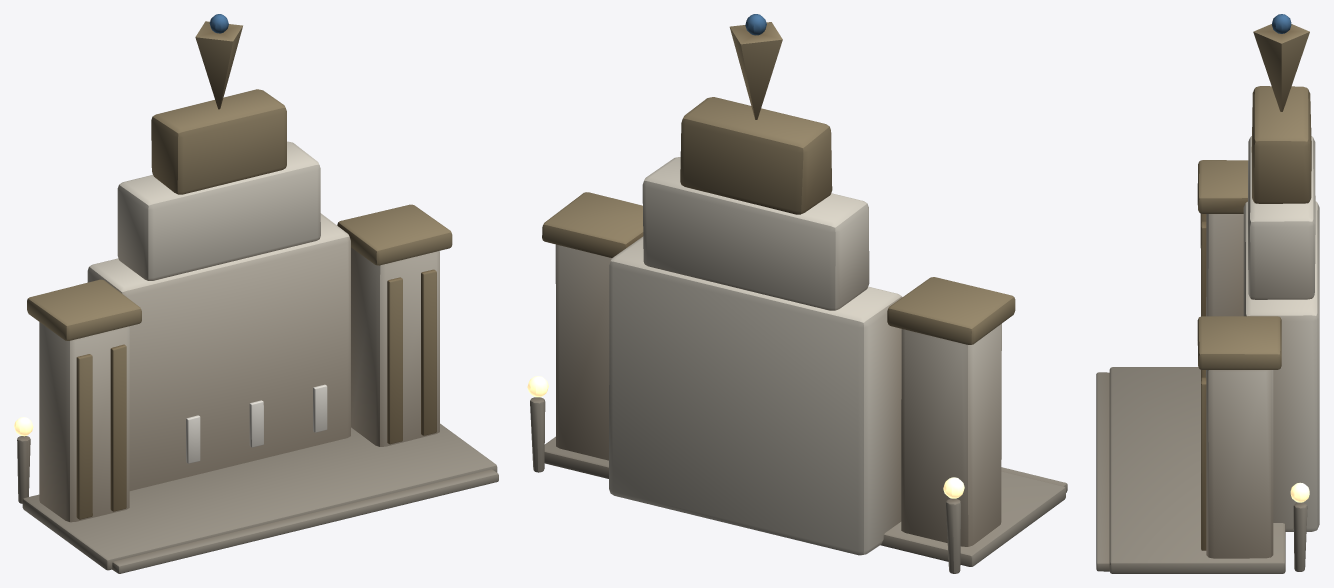
3 views of the same model, side by side, from view 1: azimuth 30°, elevation 25°; view 2: azimuth 150°, elevation 25°; view 3: azimuth 270°, elevation 25° (orthographic). The views are drawn at different scales.
Visible parts, largest first — view 1: gate_a16ecc8b; view 2: gate_a16ecc8b; view 3: gate_a16ecc8b.
Boxes of the visible parts, <box> form: gate_a16ecc8b: <box>14,14,498,573</box>; gate_a16ecc8b: <box>527,14,1067,573</box>; gate_a16ecc8b: <box>1096,14,1319,573</box>.
Size of the model in its own units: 5.55 by 6.08 by 2.66.
